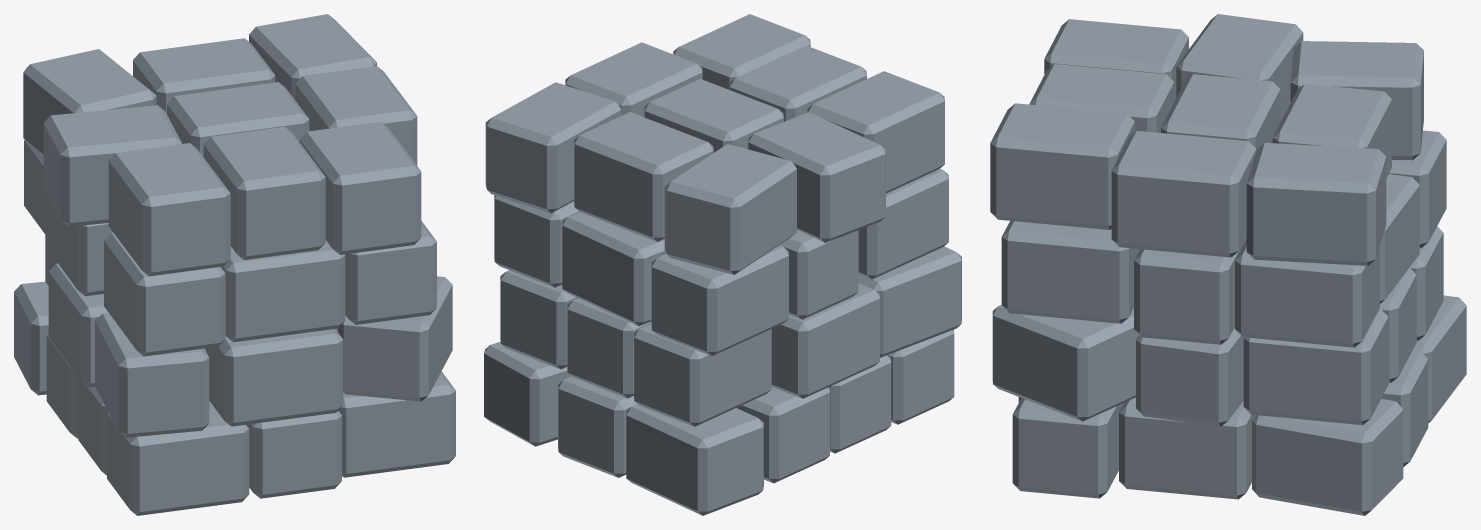
File: ice_scandi_construction_bricks_02.fbx
The picture shows the model from 3 angles, left to right: view 1: azimuth 30°, elevation 25°; view 2: azimuth 150°, elevation 25°; view 3: azimuth 270°, elevation 25°; orthographic projection. The views are drawn at different scales.
Parts seen in each view (by area): view 1: scandi_construction_bricks_02; view 2: scandi_construction_bricks_02; view 3: scandi_construction_bricks_02.
Part boxes in pixels (x1,y1,x2,y2): scandi_construction_bricks_02: (14,14,455,515); scandi_construction_bricks_02: (484,14,961,515); scandi_construction_bricks_02: (990,14,1466,515).
Bounding box in the file's own units: 2.75 × 2.33 × 3.04.
1 material, 1 textured.
